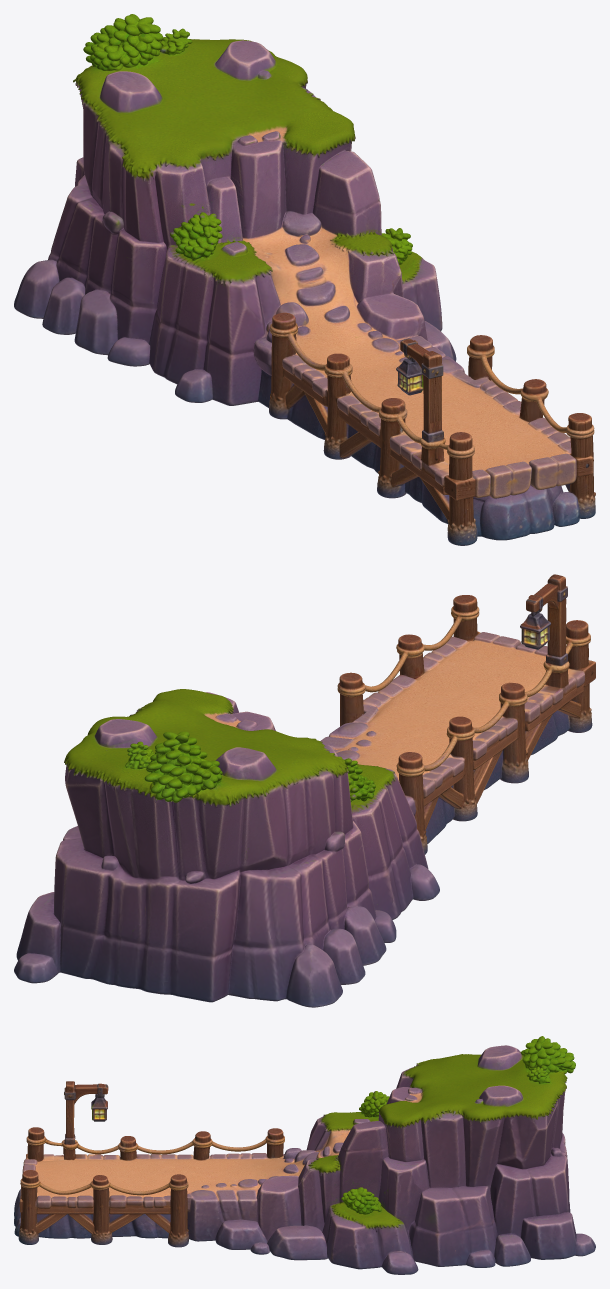
The model's file is jetti-connector-cliff-01.glb.
The picture shows the model from 3 angles, top to bottom: view 1: azimuth 30°, elevation 25°; view 2: azimuth 150°, elevation 25°; view 3: azimuth 270°, elevation 25°; orthographic projection. The views are drawn at different scales.
Bounding box in the file's own units: 0.8649 × 0.6361 × 1.9.
Materials: 1 (1 with a texture image).
